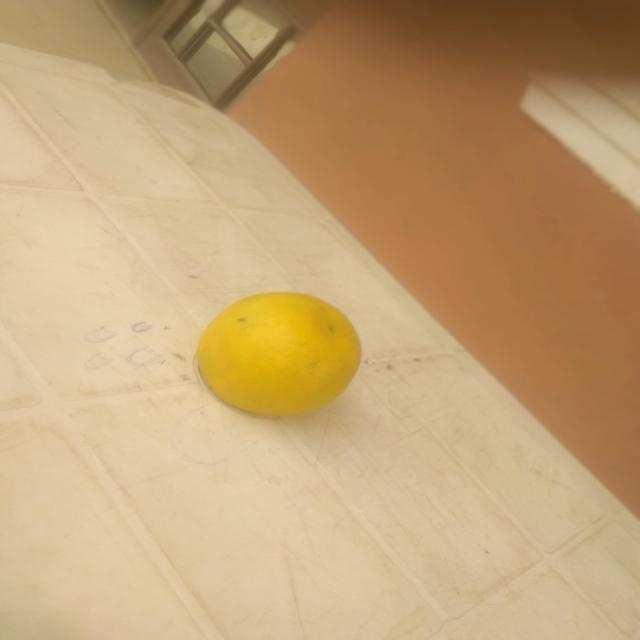agrume: (186, 285, 366, 426)
